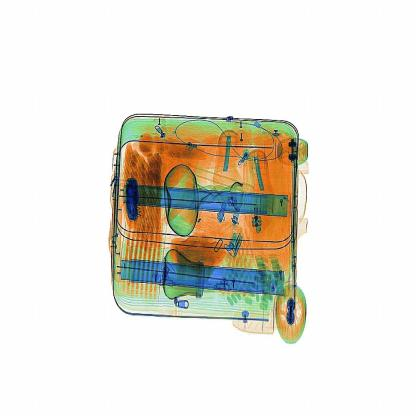scissors: (119, 171, 146, 234)
